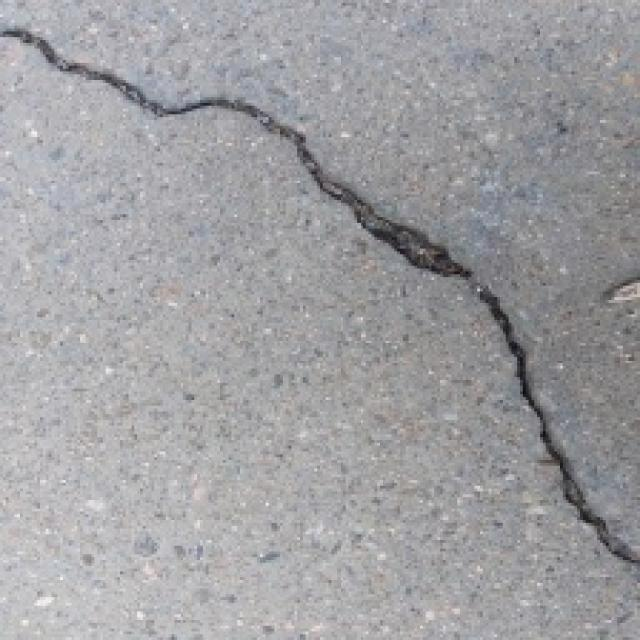SurfaceCrack: (0, 2, 640, 582)
